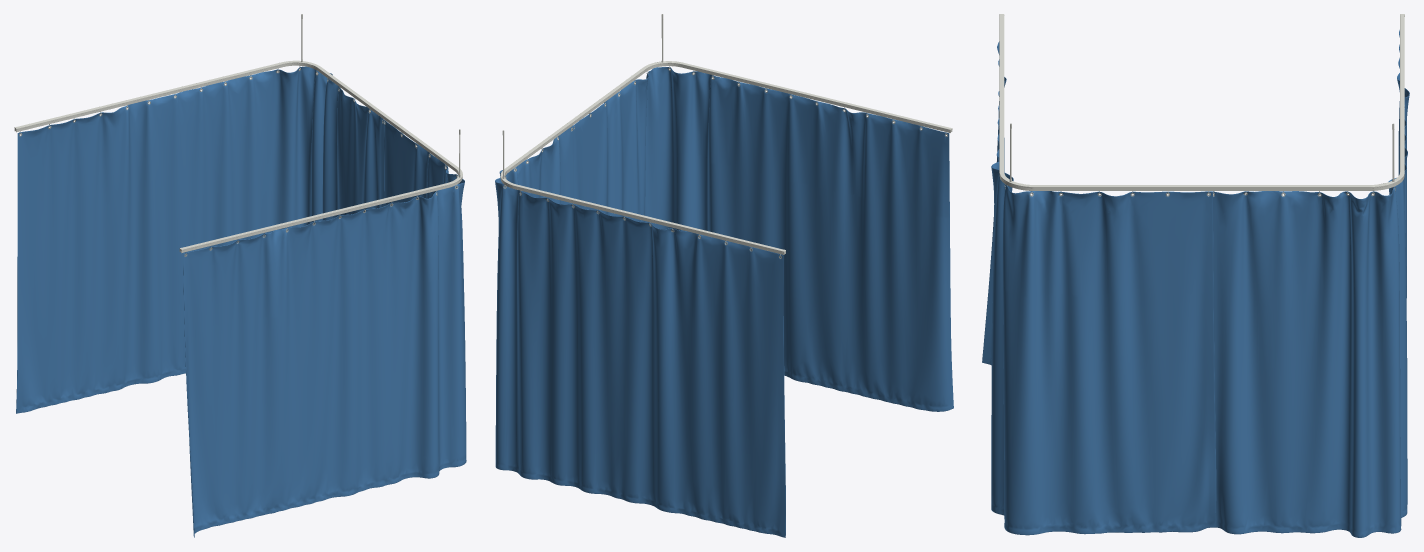
The model's file is screen_hospital_b01.glb.
3 renders of one model, left to right at view 1: azimuth 30°, elevation 25°; view 2: azimuth 150°, elevation 25°; view 3: azimuth 270°, elevation 25°, orthographic. The views are drawn at different scales.
Size of the model in its own units: 3.24 by 3.45 by 3.3.
